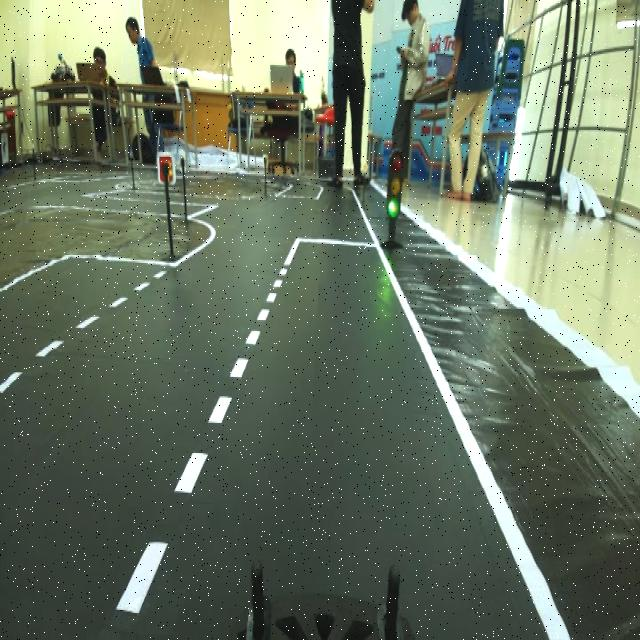trafficlight: (379, 144, 408, 258)
